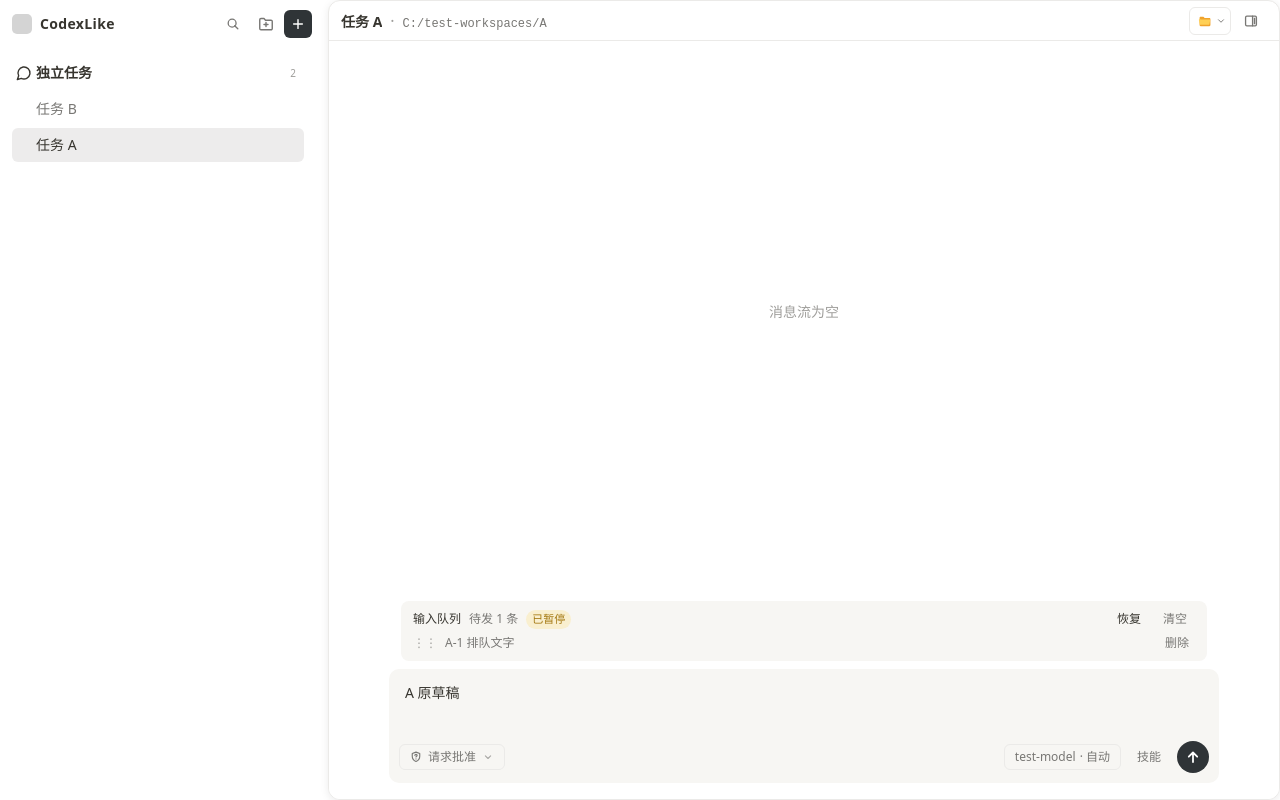
Test case: WorkspacePage 队列编辑与工作台草稿 › F09 编辑目标 removed 后结束编辑，当前文字作为草稿保留
Expected: the text box with test id "composer-input" holds "A 原草稿", [389,669,1219,735]
Expected: the element with test id "queue-bar" is shown, [401,601,1207,661]
Click the button with test id "queue-item-preview".
click(480, 643)  # box [445,635,1151,651]
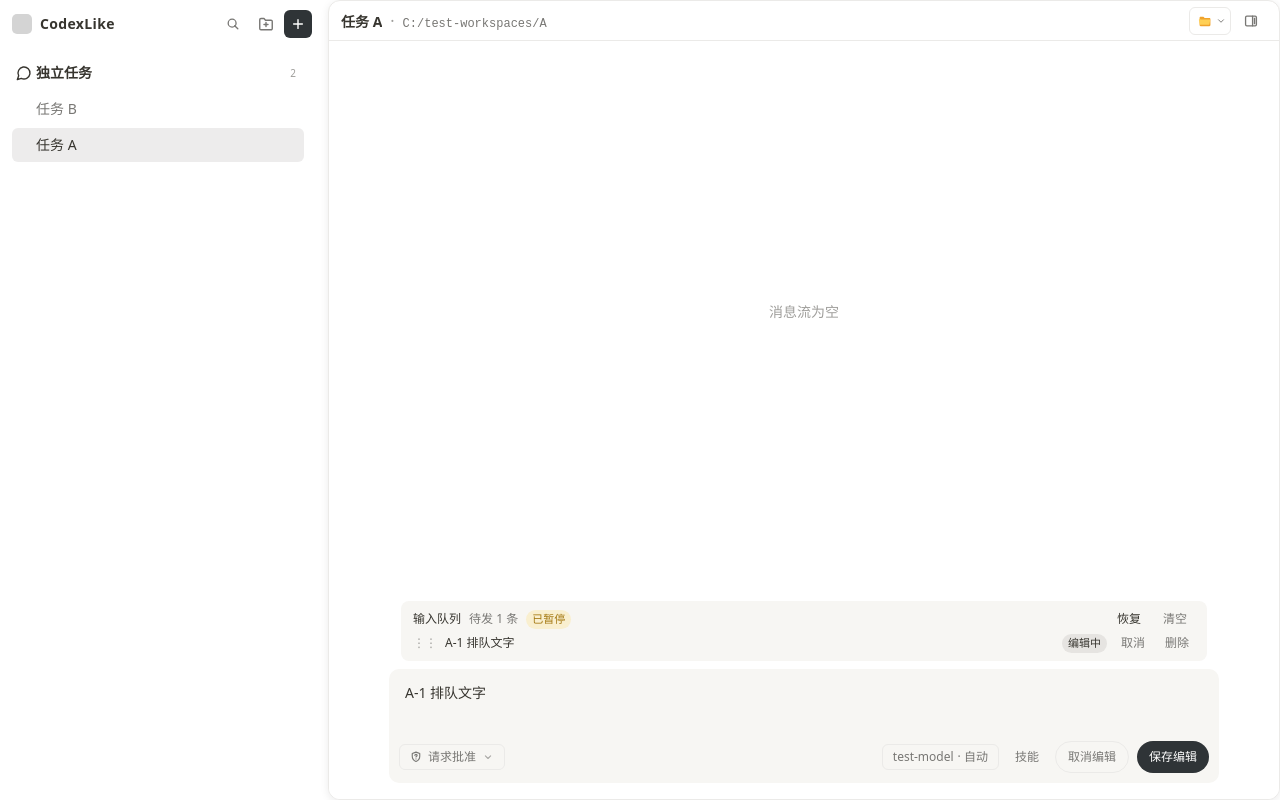
Replace the text in the text box with test id "composer-input" with "仍需保留的修改" at (804, 702), box [389,669,1219,735]
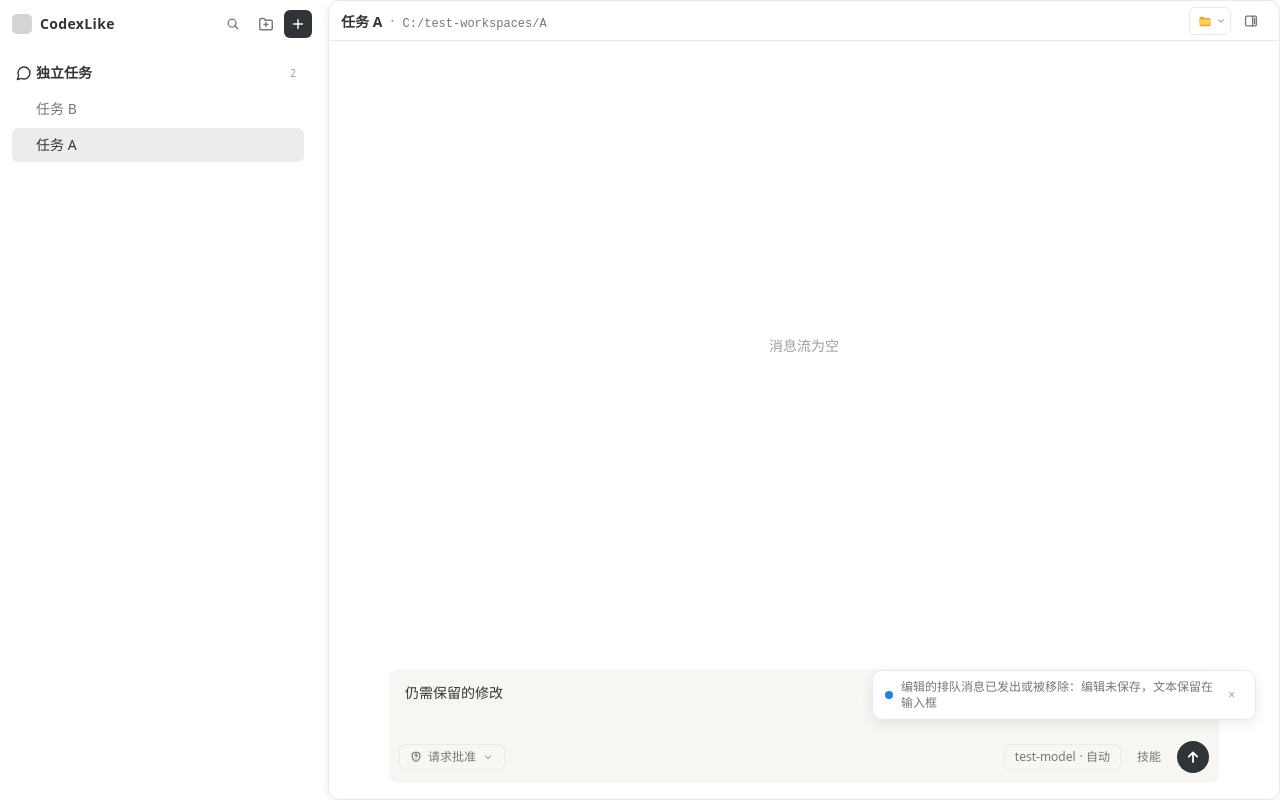
Now the button with test id "composer-cancel-edit" is gone
